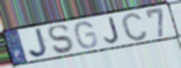7: (144, 6, 167, 39)
C: (120, 11, 150, 42)
G: (73, 20, 99, 50)
J: (27, 27, 51, 59), (103, 16, 121, 45)
S: (47, 23, 75, 56)
